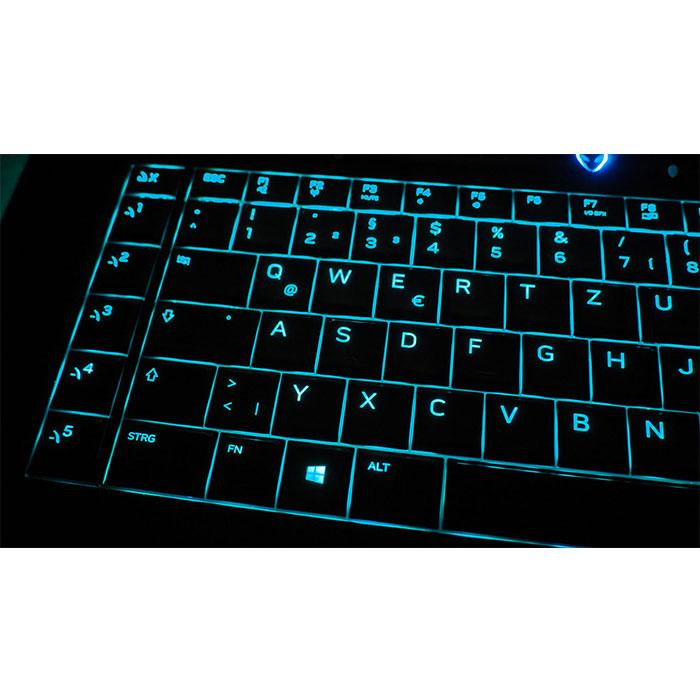1: (233, 203, 295, 252)
2: (289, 207, 354, 259)
3: (352, 212, 414, 262)
4: (415, 216, 474, 268)
5: (475, 220, 537, 273)
6: (538, 225, 602, 278)
7: (602, 230, 671, 284)
a: (252, 313, 321, 369)
alt-left: (351, 448, 447, 533)
b: (554, 402, 631, 468)
c: (411, 388, 488, 454)
caret: (176, 200, 238, 249)
d: (382, 321, 453, 384)
e: (377, 265, 444, 321)
f: (453, 328, 520, 391)
g: (522, 335, 589, 398)
h: (591, 341, 658, 404)
j: (660, 344, 698, 411)
keyboard: (22, 159, 700, 547)
less: (205, 366, 282, 432)
n: (628, 407, 697, 479)
q: (249, 254, 318, 310)
r: (439, 271, 506, 327)
s: (317, 318, 386, 377)
shift-left: (124, 358, 217, 426)
shift-lock: (139, 304, 260, 364)
space: (445, 458, 695, 547)
strg-left: (102, 424, 221, 499)
t: (506, 275, 570, 332)
tab: (161, 249, 258, 305)
u: (637, 284, 699, 344)
v: (482, 396, 559, 462)
w: (311, 259, 378, 315)
x: (341, 382, 418, 448)
y: (269, 374, 346, 440)
z: (571, 280, 640, 338)
